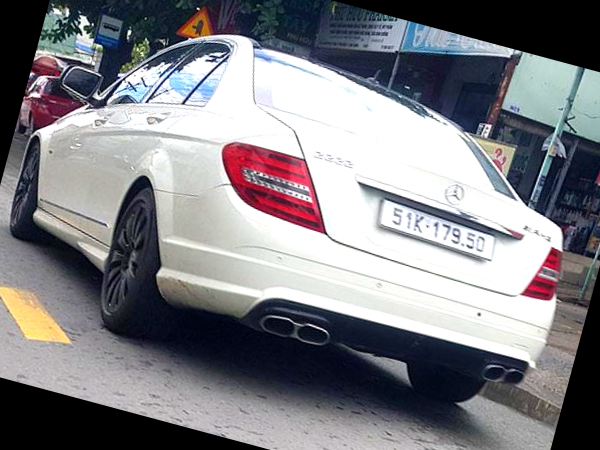lisence: (377, 198, 497, 260)
